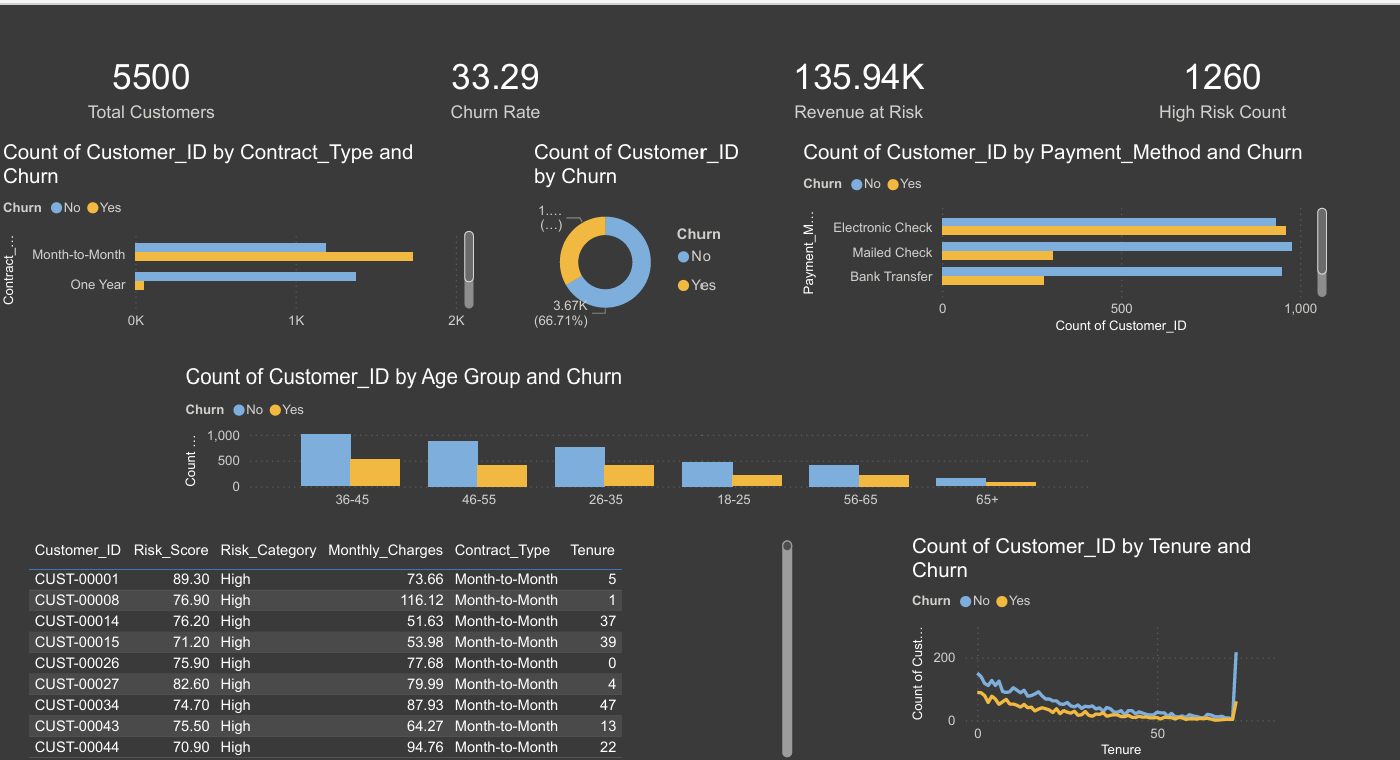

Layout of this report page (visuals, bound fields, positions):
{"tool":"powerbi","page":{"name":"Page 1","canvas":[1280,720],"ordinal":0},"visuals":[{"type":"card","fields":{"Values":["customer_churn.Total Customers"]},"box":[0,58.3,279.6,98.2],"z":0},{"type":"card","fields":{"Values":["customer_churn.Churn Rate"]},"box":[293,58.3,319.6,98.2],"z":1},{"type":"card","fields":{"Values":["customer_churn.Revenue at Risk"]},"box":[617.5,58.3,329.6,98.2],"z":2},{"type":"card","fields":{"Values":["customer_churn.High Risk Count"]},"box":[958.8,58.3,309.6,98.2],"z":3},{"type":"clusteredBarChart","fields":{"Category":["customer_churn.Contract_Type"],"Y":["CountNonNull(customer_churn.Customer_ID)"],"Series":["customer_churn.Churn"]},"box":[0,156.5,437.8,179.8],"z":4},{"type":"donutChart","fields":{"Category":["customer_churn.Churn"],"Y":["CountNonNull(customer_churn.Customer_ID)"]},"box":[482.7,156.5,199.7,179.8],"z":5},{"type":"lineChart","fields":{"Category":["customer_churn.Tenure"],"Y":["CountNonNull(customer_churn.Customer_ID)"],"Series":["customer_churn.Churn"]},"box":[825.6,512.7,341.2,208.1],"z":6},{"type":"clusteredColumnChart","fields":{"Category":["customer_churn.Age Group"],"Y":["CountNonNull(customer_churn.Customer_ID)"],"Series":["customer_churn.Churn"]},"box":[166.4,359.5,830.6,138.2],"z":7},{"type":"tableEx","fields":{"Values":["customer_churn.Customer_ID","customer_churn.Risk_Score","customer_churn.Risk_Category","customer_churn.Monthly_Charges","customer_churn.Contract_Type","customer_churn.Tenure"]},"box":[23.3,514.3,704.1,206.4],"z":8},{"type":"clusteredBarChart","fields":{"Category":["customer_churn.Payment_Method"],"Y":["CountNonNull(customer_churn.Customer_ID)"],"Series":["customer_churn.Churn"]},"box":[727.4,156.5,486,179.8],"z":9}]}

Visuals, with their boxes on the page's 1280x720 design canvas (x1, y1, x2, y2). These are canvas units, not pixel positions in the 1400x760 screenshot, which may show the page scaled, cropped or inside an application window:
card - customer_churn.Total Customers: region(0, 58, 280, 156)
card - customer_churn.Churn Rate: region(293, 58, 613, 156)
card - customer_churn.Revenue at Risk: region(618, 58, 947, 156)
card - customer_churn.High Risk Count: region(959, 58, 1268, 156)
clusteredBarChart - customer_churn.Contract_Type x CountNonNull(customer_churn.Customer_ID): region(0, 156, 438, 336)
donutChart - customer_churn.Churn x CountNonNull(customer_churn.Customer_ID): region(483, 156, 682, 336)
lineChart - customer_churn.Tenure x CountNonNull(customer_churn.Customer_ID): region(826, 513, 1167, 721)
clusteredColumnChart - customer_churn.Age Group x CountNonNull(customer_churn.Customer_ID): region(166, 360, 997, 498)
tableEx - customer_churn.Customer_ID x customer_churn.Risk_Score: region(23, 514, 727, 721)
clusteredBarChart - customer_churn.Payment_Method x CountNonNull(customer_churn.Customer_ID): region(727, 156, 1213, 336)
